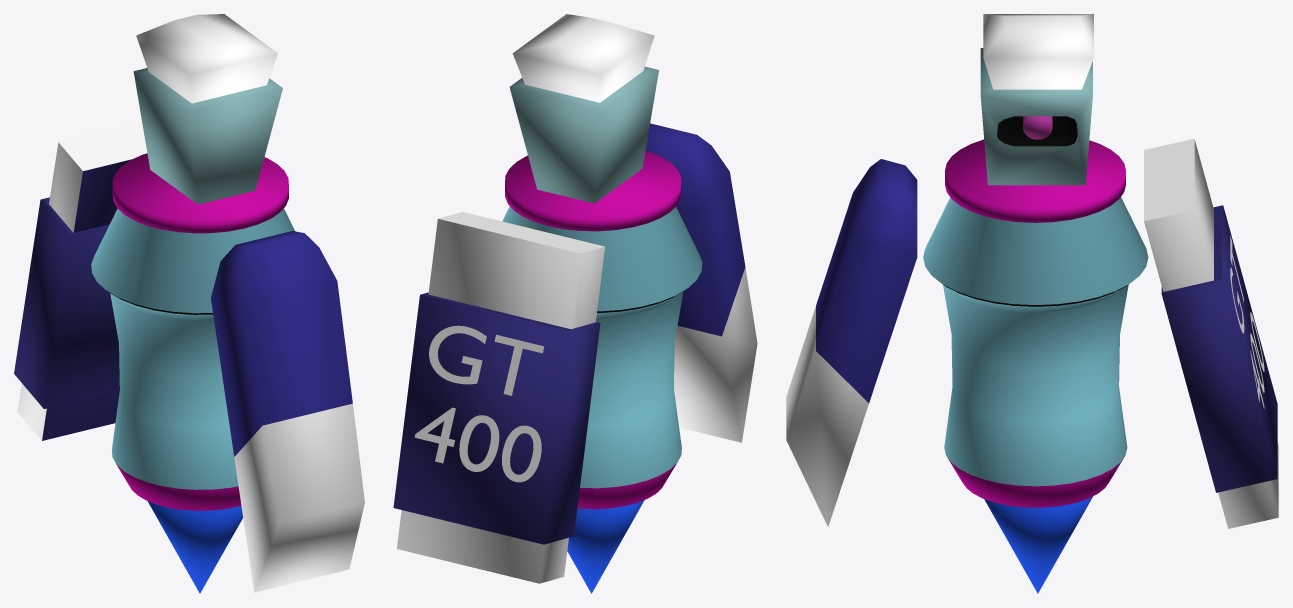
Rendered from 1stBoss.fbx.
3 views of the same model, side by side, from view 1: azimuth 30°, elevation 25°; view 2: azimuth 150°, elevation 25°; view 3: azimuth 270°, elevation 25° (orthographic). The views are drawn at different scales.
Visible parts, largest first — view 1: Cone.001; view 2: Cone.001; view 3: Cone.001.
Boxes of the visible parts, box(x1,y1,x2,y2) form: Cone.001: box(14, 14, 364, 593); Cone.001: box(393, 14, 757, 593); Cone.001: box(786, 14, 1278, 593).
Size of the model in its own units: 172 by 485 by 377.
